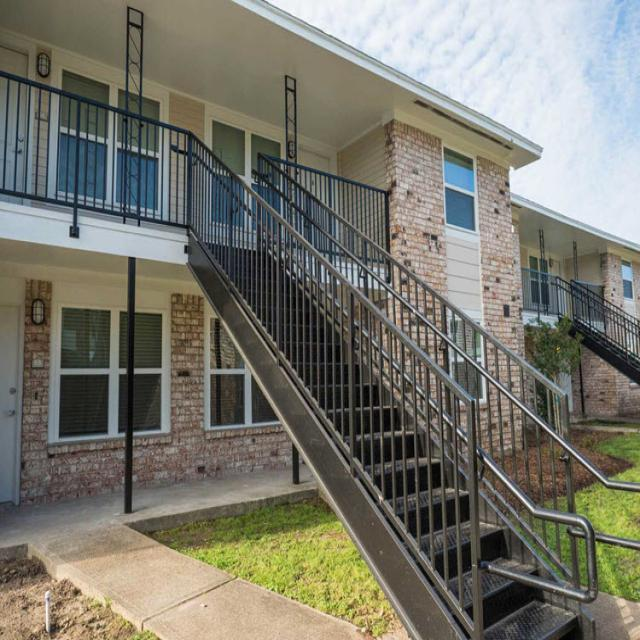stairs: (185, 219, 594, 638)
